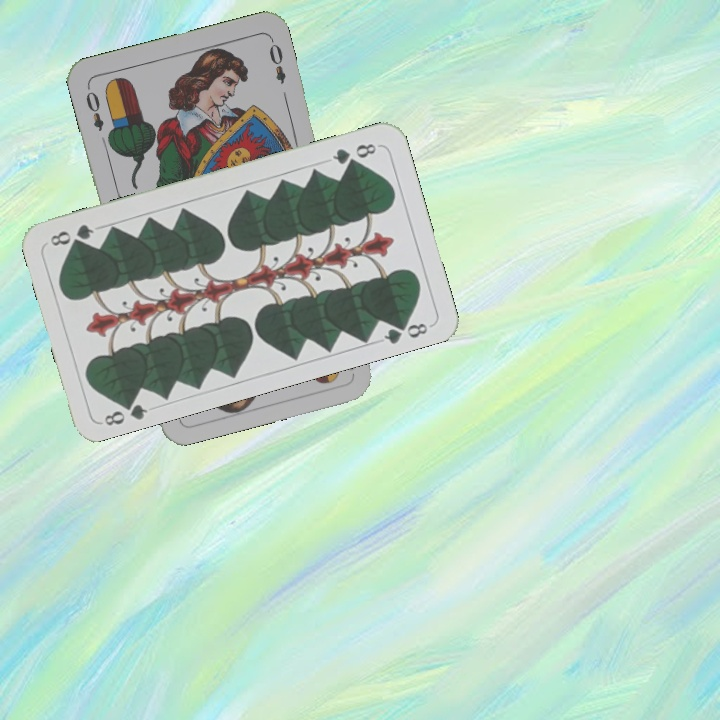EO: (81, 82, 106, 134)
G8: (100, 394, 150, 429), (328, 139, 379, 167)
